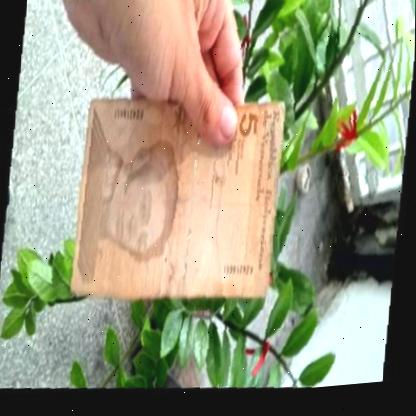five-front-vef: (70, 86, 288, 315)
